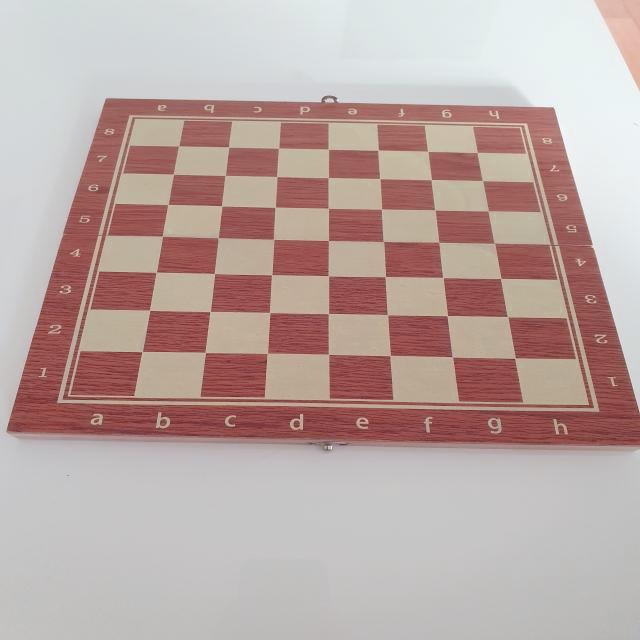chess-table-corners: (571, 390, 621, 428), (37, 382, 85, 412), (509, 112, 541, 136), (117, 104, 150, 127)
